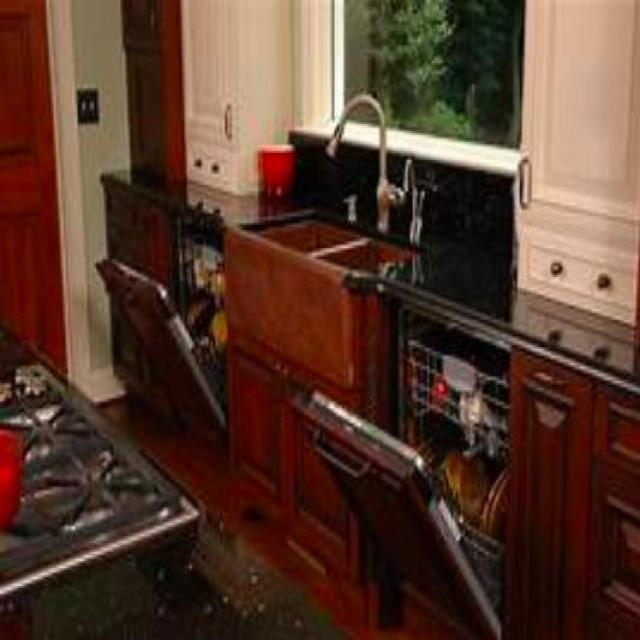dishwasher: (289, 291, 509, 638), (94, 200, 223, 450)
